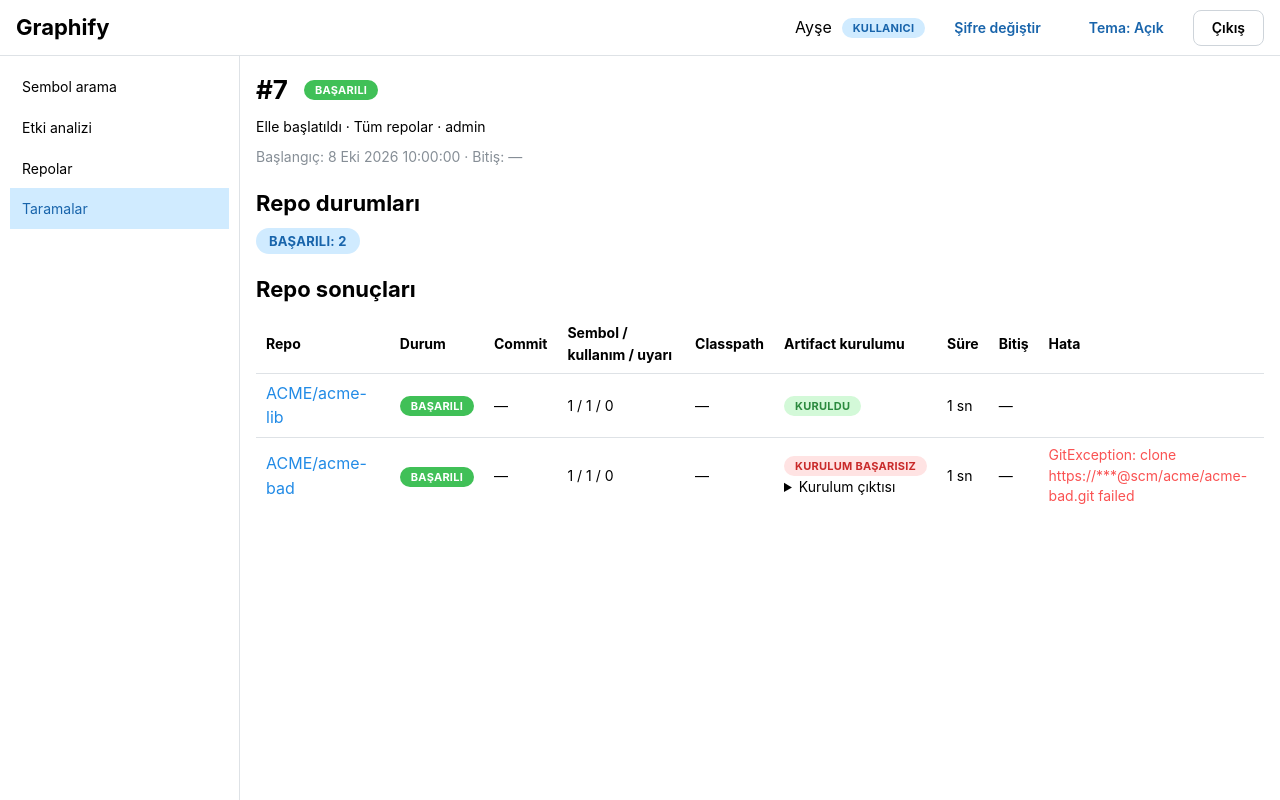
Test: index runs › shows each repository artifact install with its output
Expected: the text "Kuruldu" is shown, x1=795 y1=398 x2=850 y2=416
Expected: the text "Kurulum başarısız" is shown, x1=795 y1=457 x2=916 y2=475
Click the heading "Kurulum çıktısı": [847, 486] box x1=799 y1=478 x2=895 y2=495
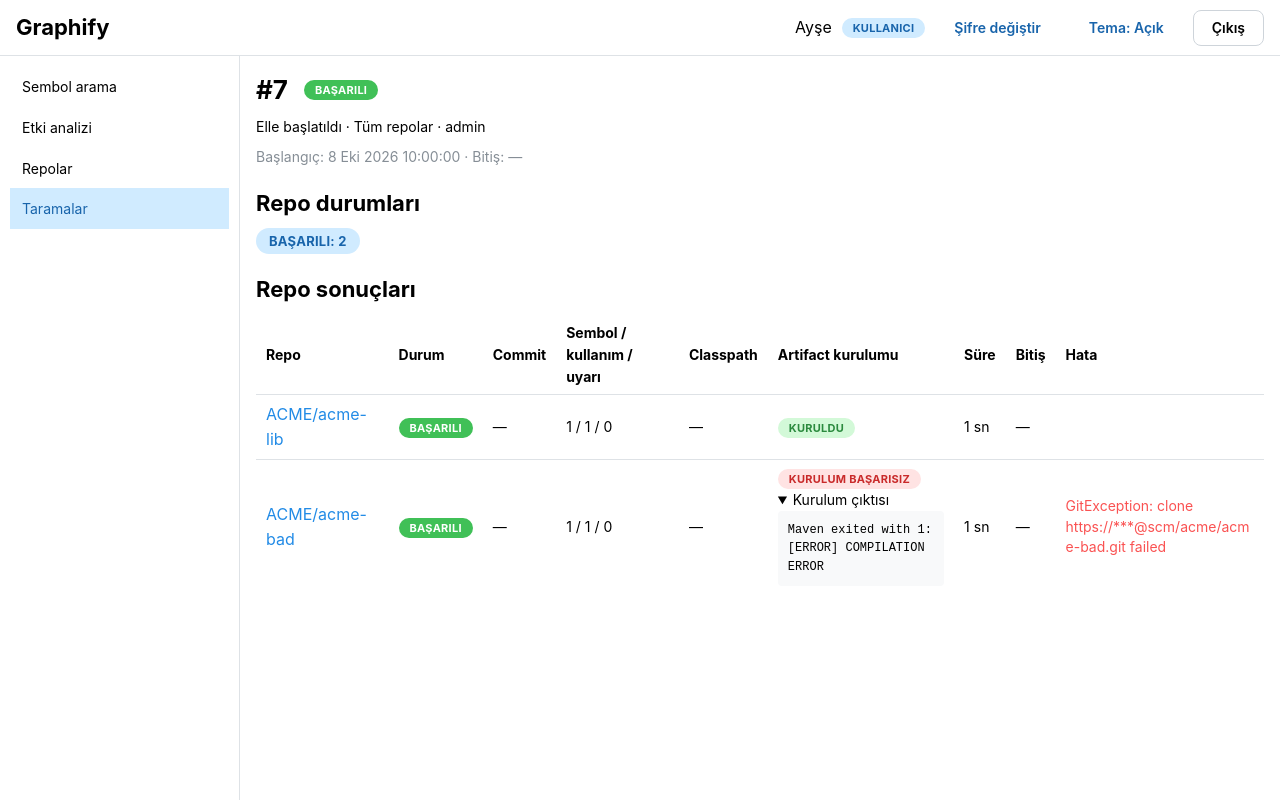
Expected: the text "Maven exited with 1: [ERROR] COMPILATION ERROR" is shown, x1=778 y1=511 x2=944 y2=586
